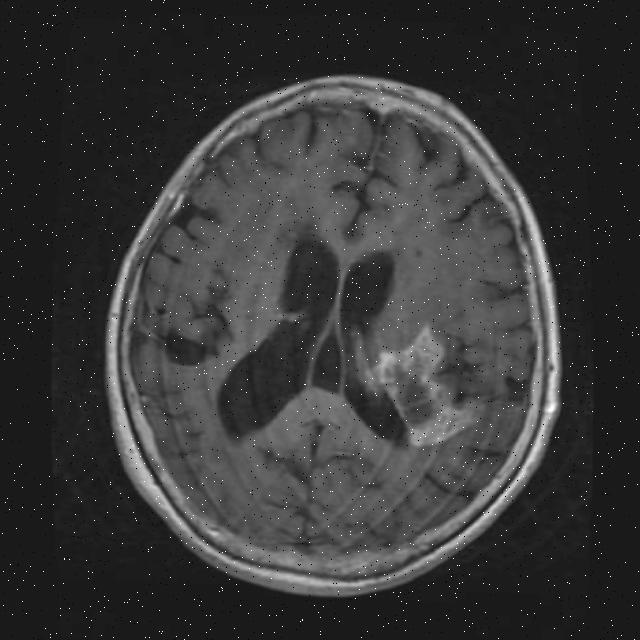Glioma: (362, 318, 485, 449)
